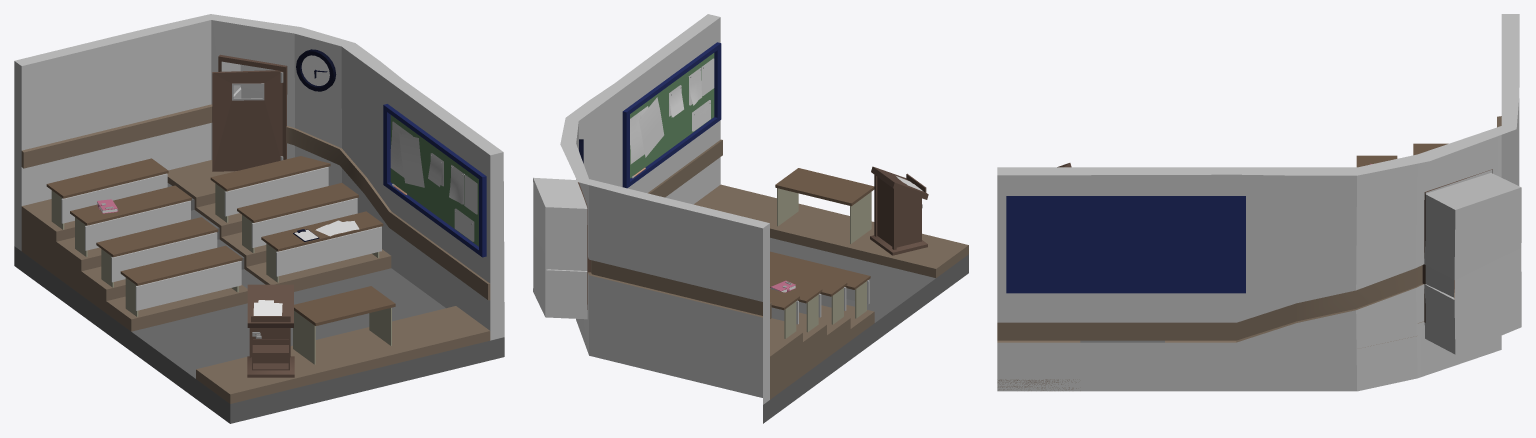
File: classroom.fbx
3 renders of one model, left to right at view 1: azimuth 30°, elevation 25°; view 2: azimuth 150°, elevation 25°; view 3: azimuth 270°, elevation 25°, orthographic. The views are drawn at different scales.
Visible parts, largest first — view 1: side, bottom1, step, front, strip1, polySurface22, pCube1, polySurface3, polySurface4, pCube2, pCube31, pCube44 (+19 smaller); view 2: side, bottom1, front, step, strip1, pCube1, polySurface4, polySurface3, pCube44, pCube3, pCube8, pPlane8 (+5 smaller); view 3: side, polySurface4, strip1.
Part boxes in pixels (x1,y1,x2,y2): side: [14, 14, 504, 340]; bottom1: [14, 183, 504, 423]; step: [21, 160, 391, 331]; front: [196, 306, 490, 403]; strip1: [21, 104, 490, 300]; polySurface22: [212, 70, 282, 171]; pCube1: [247, 284, 294, 377]; polySurface3: [390, 115, 478, 246]; polySurface4: [383, 104, 486, 257]; pCube2: [135, 261, 241, 310]; pCube31: [276, 226, 381, 276]; pCube44: [294, 286, 395, 325]; side: [533, 14, 769, 404]; bottom1: [763, 237, 968, 423]; front: [694, 184, 968, 277]; step: [770, 305, 874, 399]; strip1: [588, 139, 771, 318]; pCube1: [870, 166, 928, 255]; polySurface4: [622, 42, 721, 188]; polySurface3: [630, 53, 714, 178]; pCube44: [775, 168, 874, 206]; pCube3: [770, 251, 870, 289]; pCube8: [770, 264, 847, 296]; pPlane8: [638, 97, 664, 157]; side: [997, 14, 1521, 391]; polySurface4: [1006, 196, 1245, 293]; strip1: [997, 116, 1501, 342].
Size of the model in its own units: 0.4127 by 0.2947 by 0.5645.
